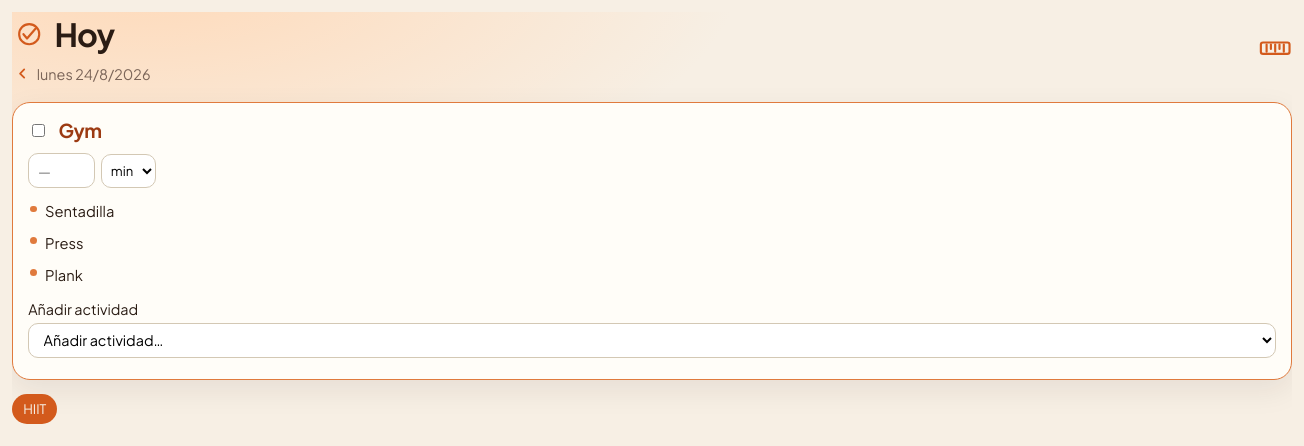
Hoy › con sesión permite marcarla hecha y muestra el guion
Step 1. Click the checkbox labelled "Gym" → click(39, 130), box x1=32 y1=124 x2=45 y2=137
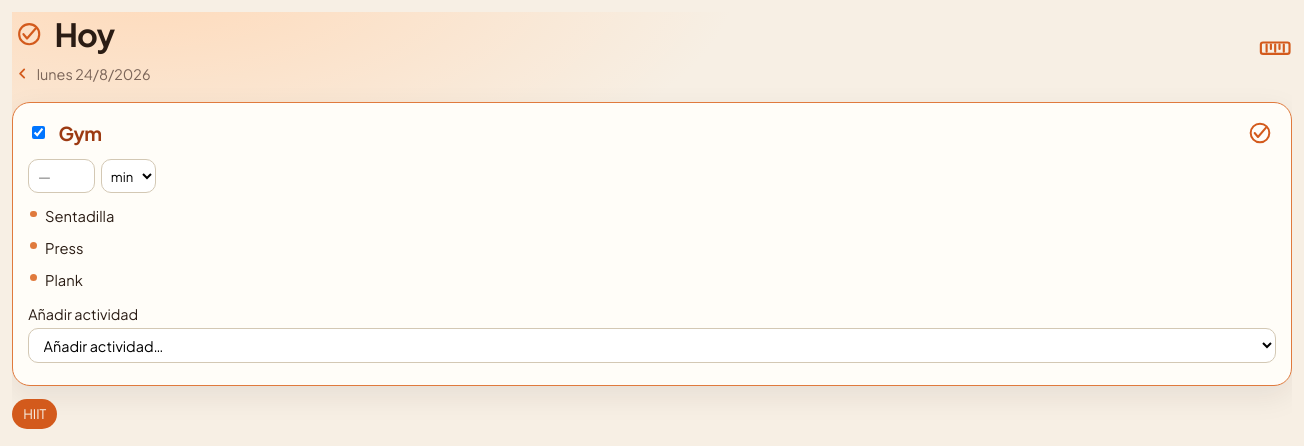
Result: the checkbox labelled "Gym" is checked at x1=32 y1=126 x2=45 y2=140
Result: the icon with class "icono-hecho" is shown at x1=1244 y1=117 x2=1276 y2=149
